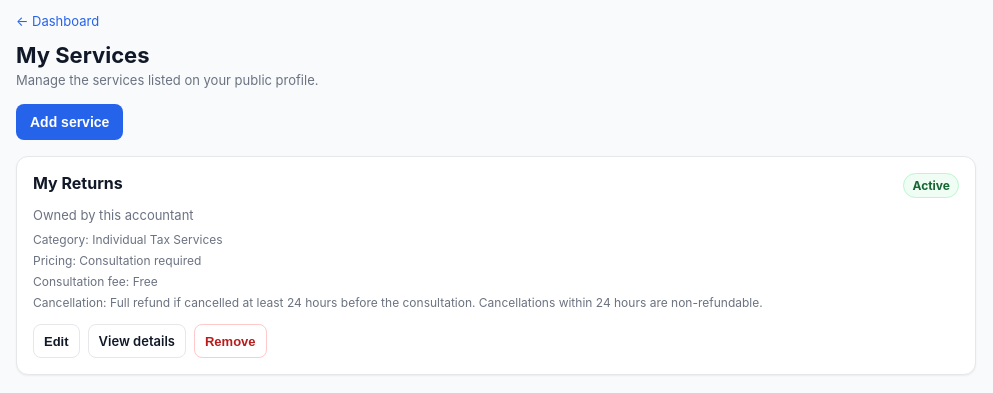
Test: accountant can remove a service from their public profile
expect the text "My Returns" is shown: met, box left=33, top=173, right=123, bottom=198
Click the button "Remove" at (230,341), box left=194, top=324, right=267, bottom=358
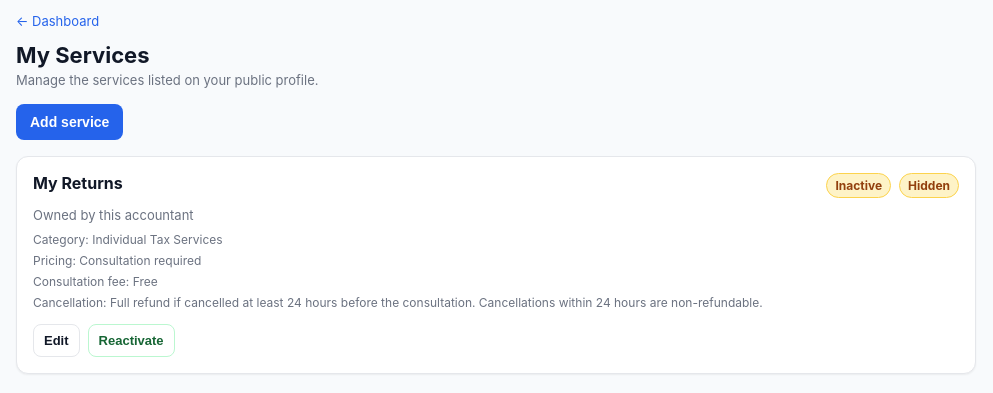
expect the text "Hidden" is shown: met, box left=899, top=173, right=959, bottom=198
expect the button "Remove" is gone: met
